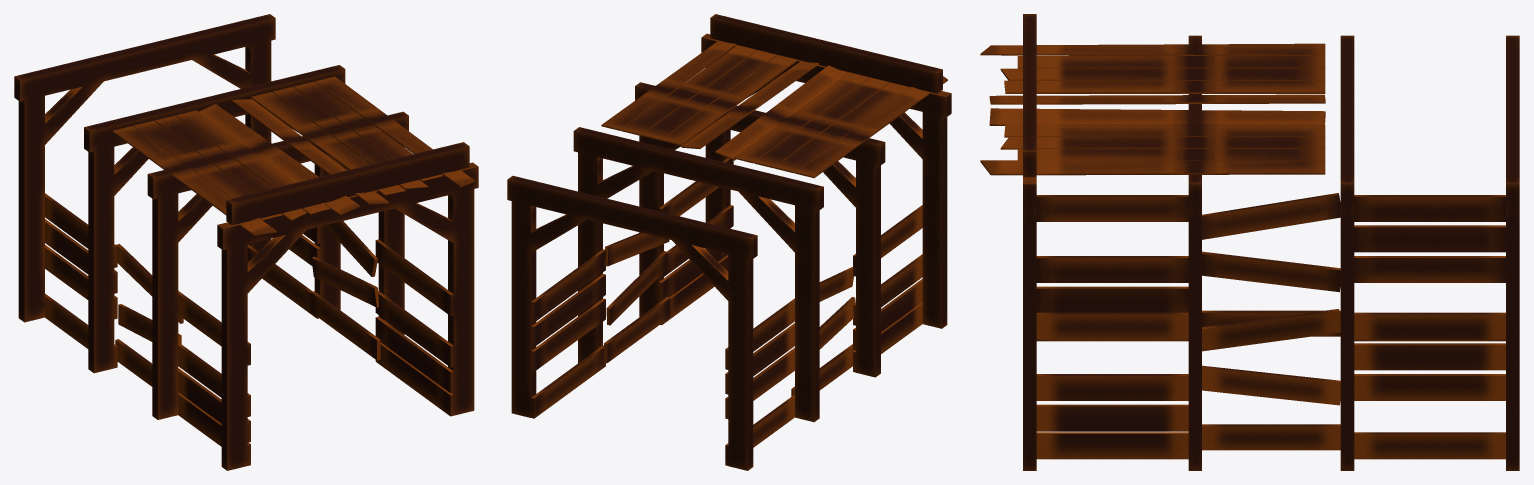
File: Maderia_Entrada.fbx
3 renders of one model, left to right at view 1: azimuth 30°, elevation 25°; view 2: azimuth 150°, elevation 25°; view 3: azimuth 270°, elevation 25°, orthographic. The views are drawn at different scales.
Visible parts, largest first — view 1: Maderia_Entrada; view 2: Maderia_Entrada; view 3: Maderia_Entrada.
Part boxes in pixels (<box>): Maderia_Entrada: <box>14,14,478,470</box>; Maderia_Entrada: <box>507,14,951,470</box>; Maderia_Entrada: <box>980,14,1519,470</box>.
Bounding box in the file's own units: 974 × 967 × 1495.
